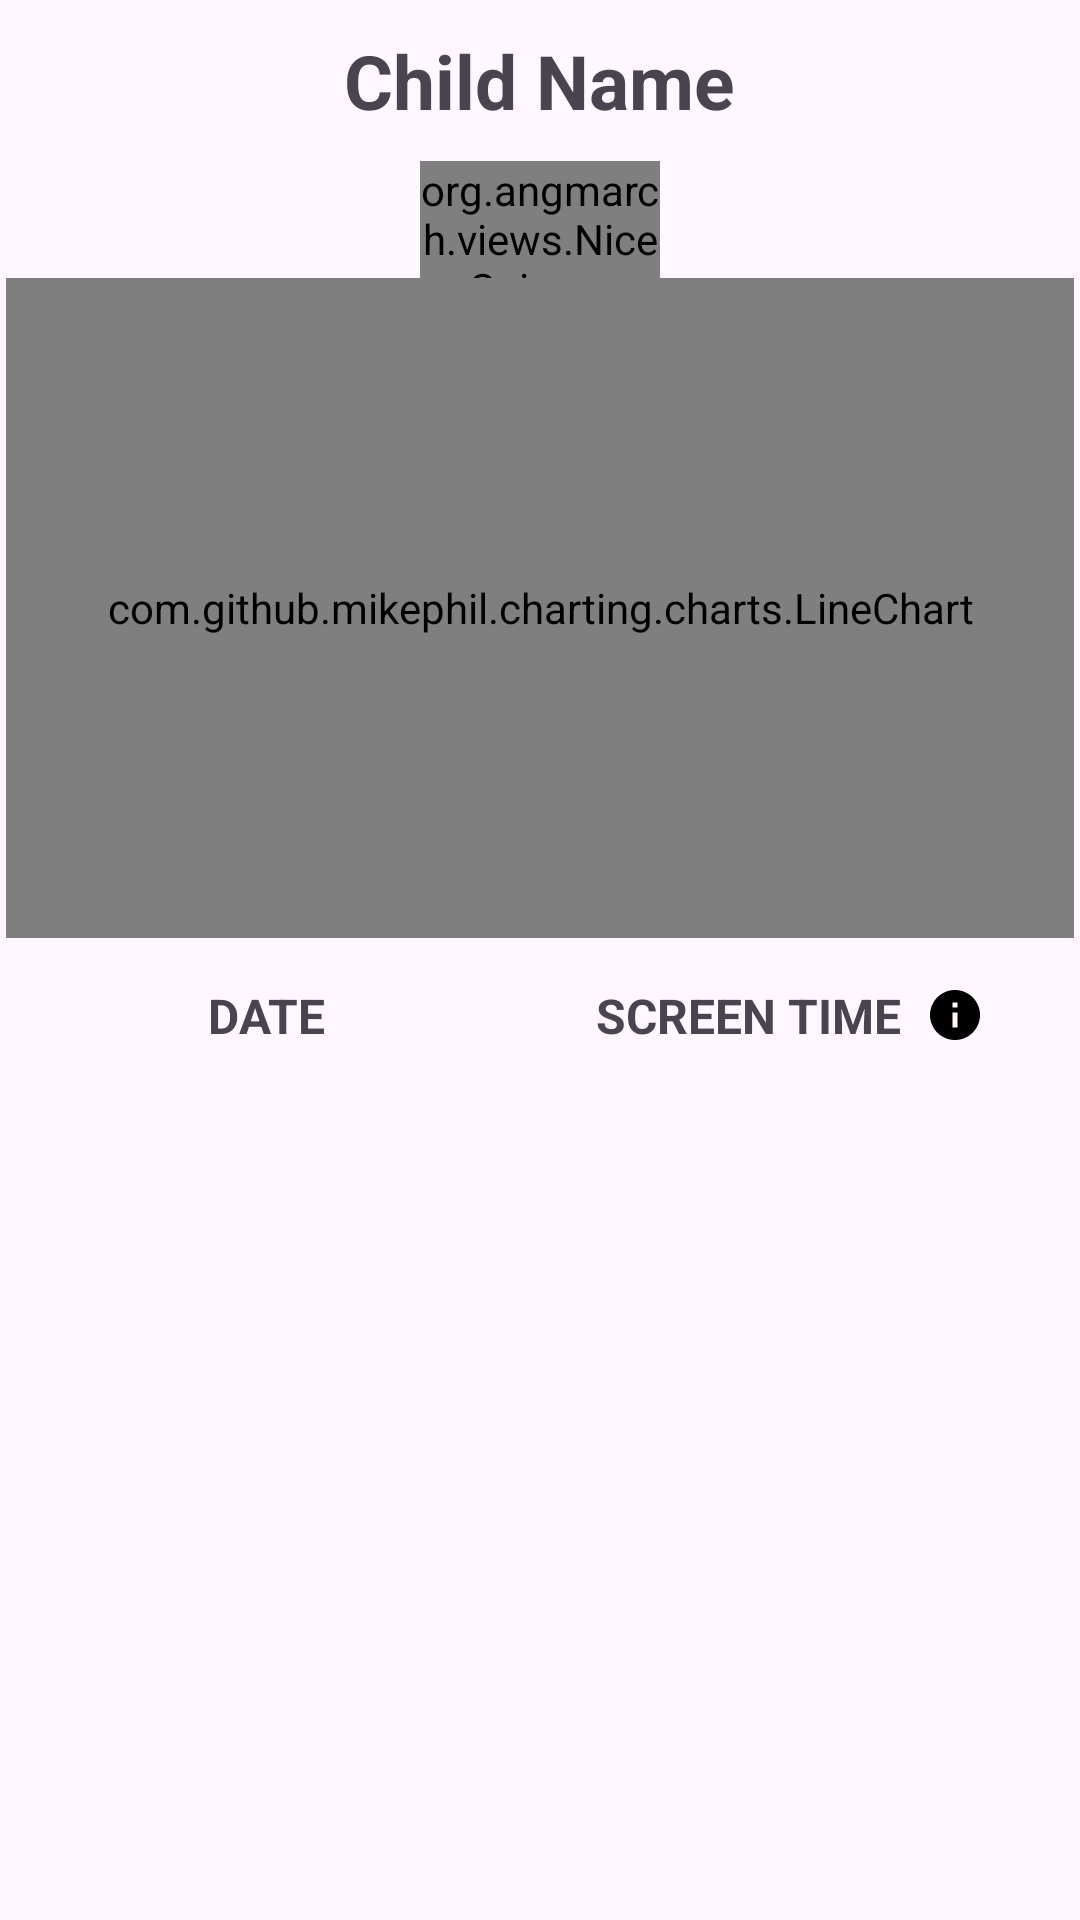

Where to tap for icons on this 1080 x 1920 app screen, as (x=x, y=y):
Time format information: (x=955, y=1015)
